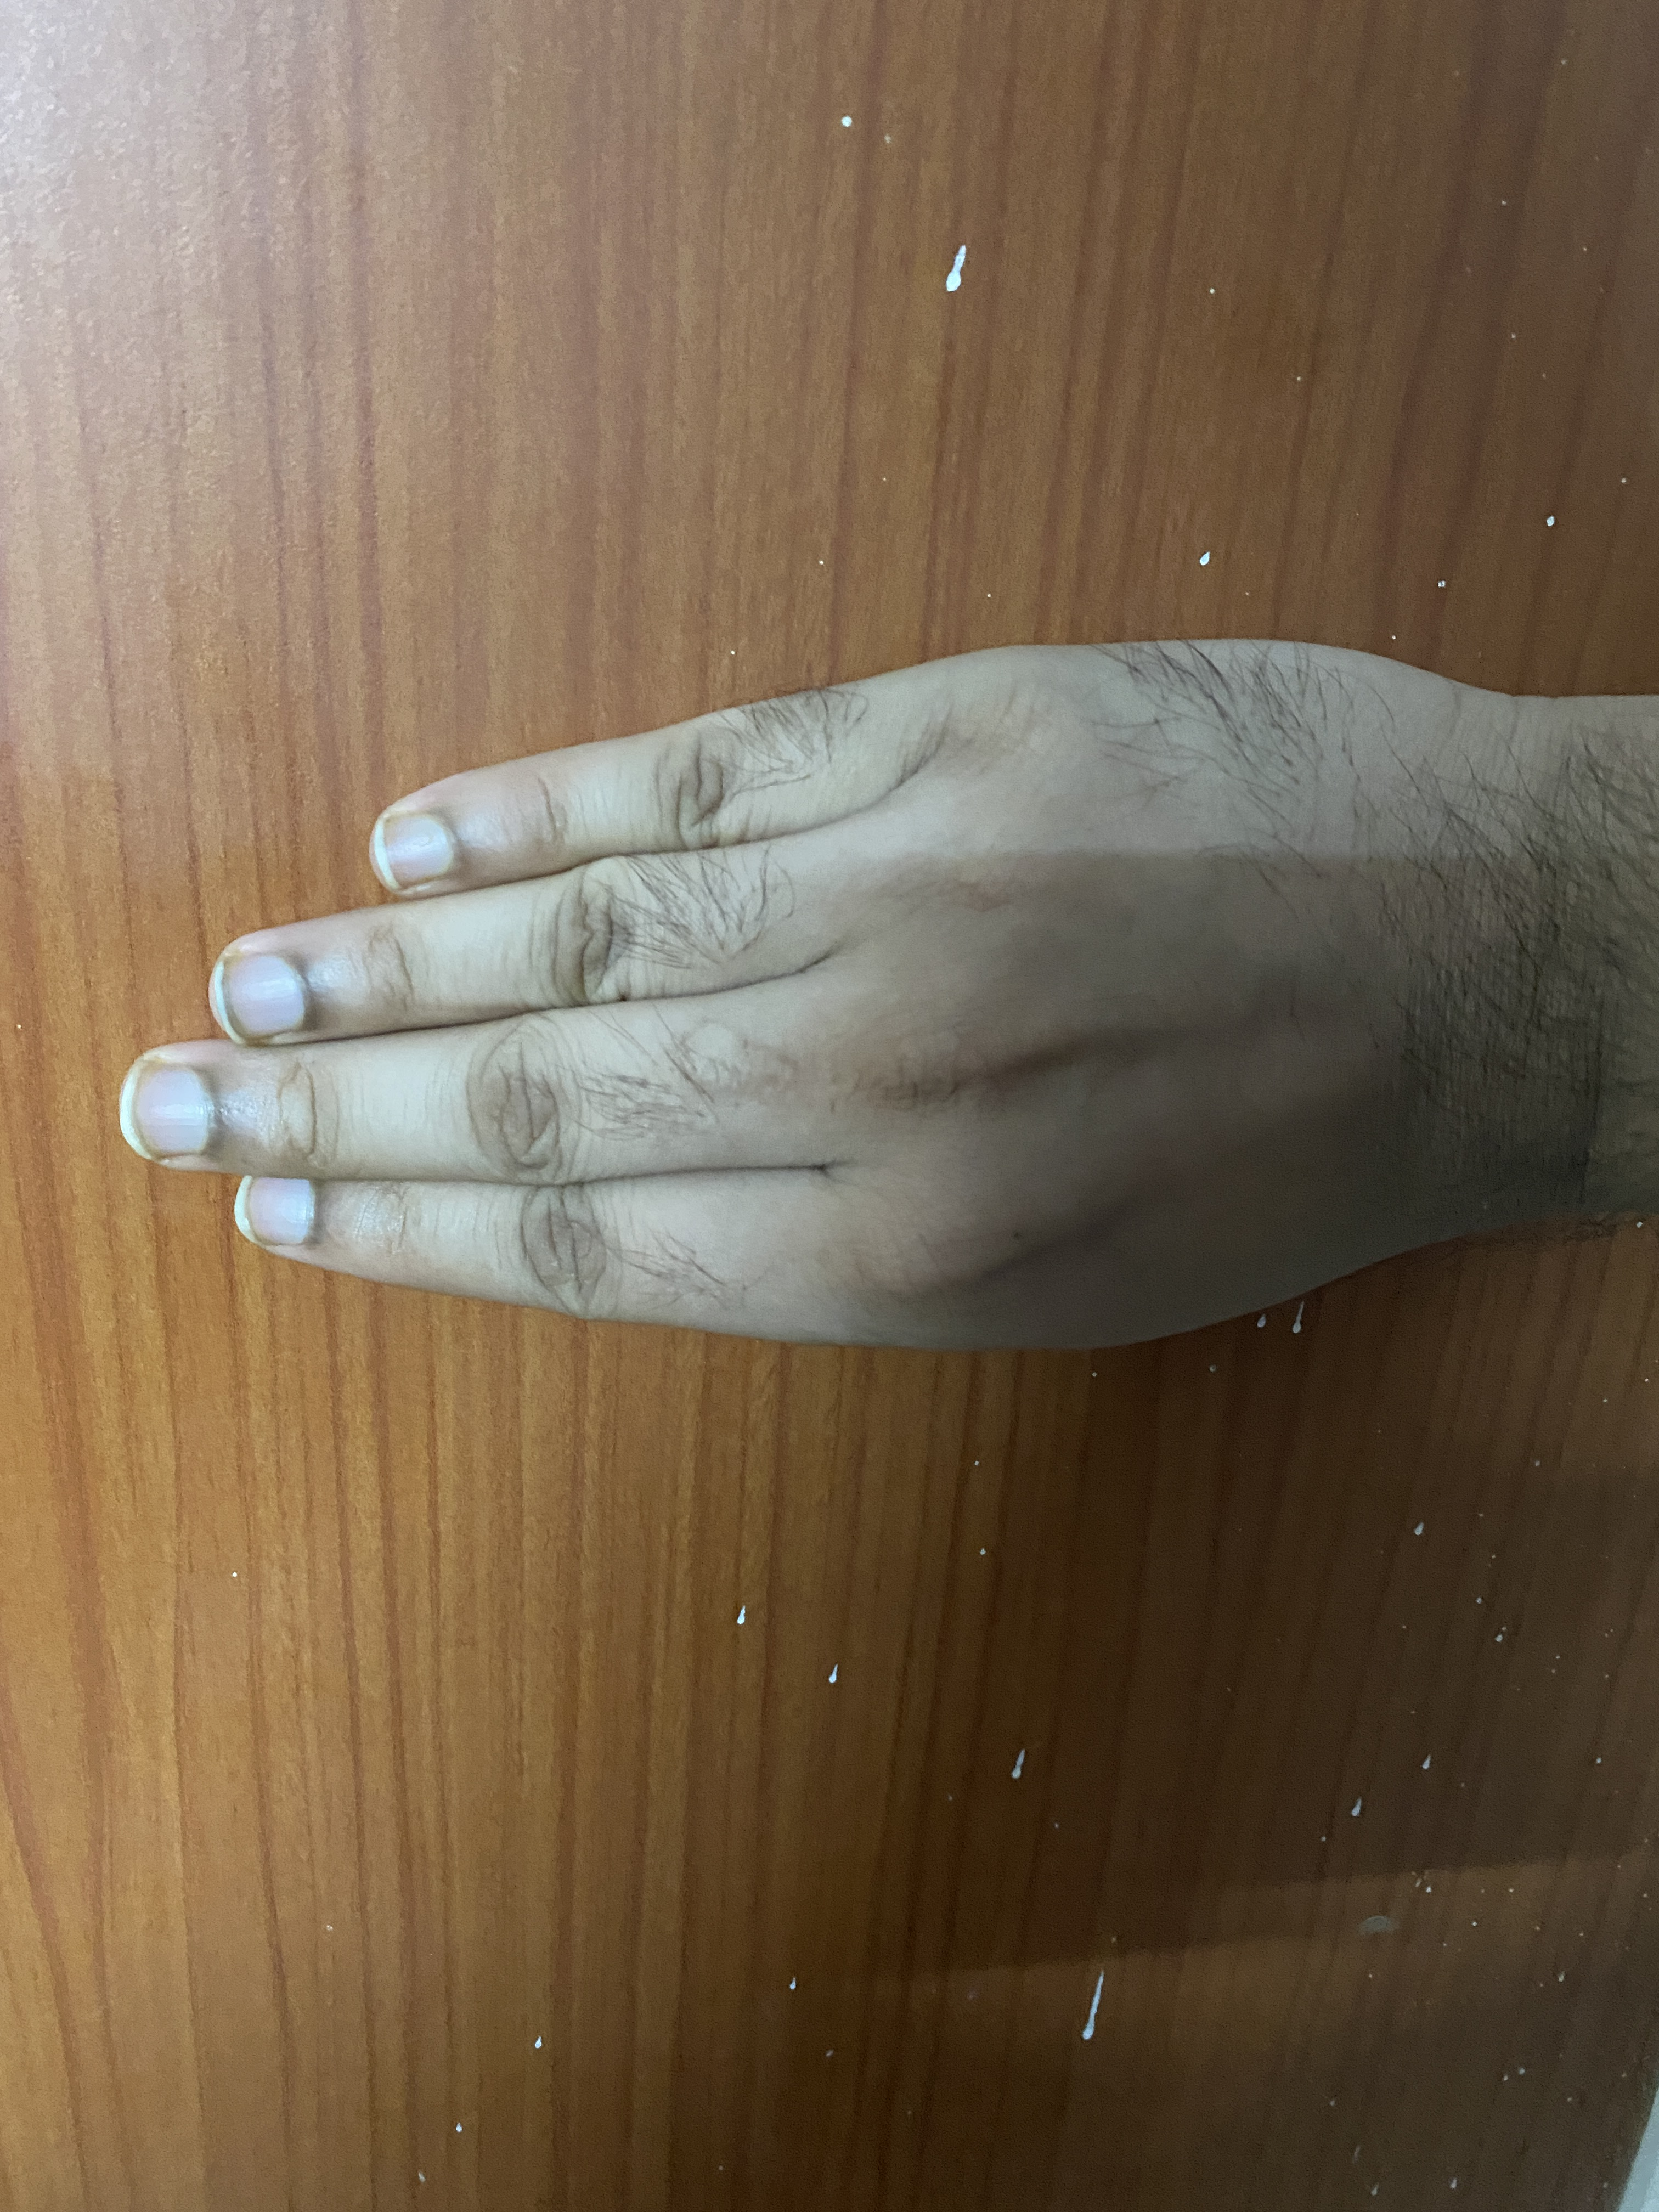right: (56, 347, 1659, 1378)
